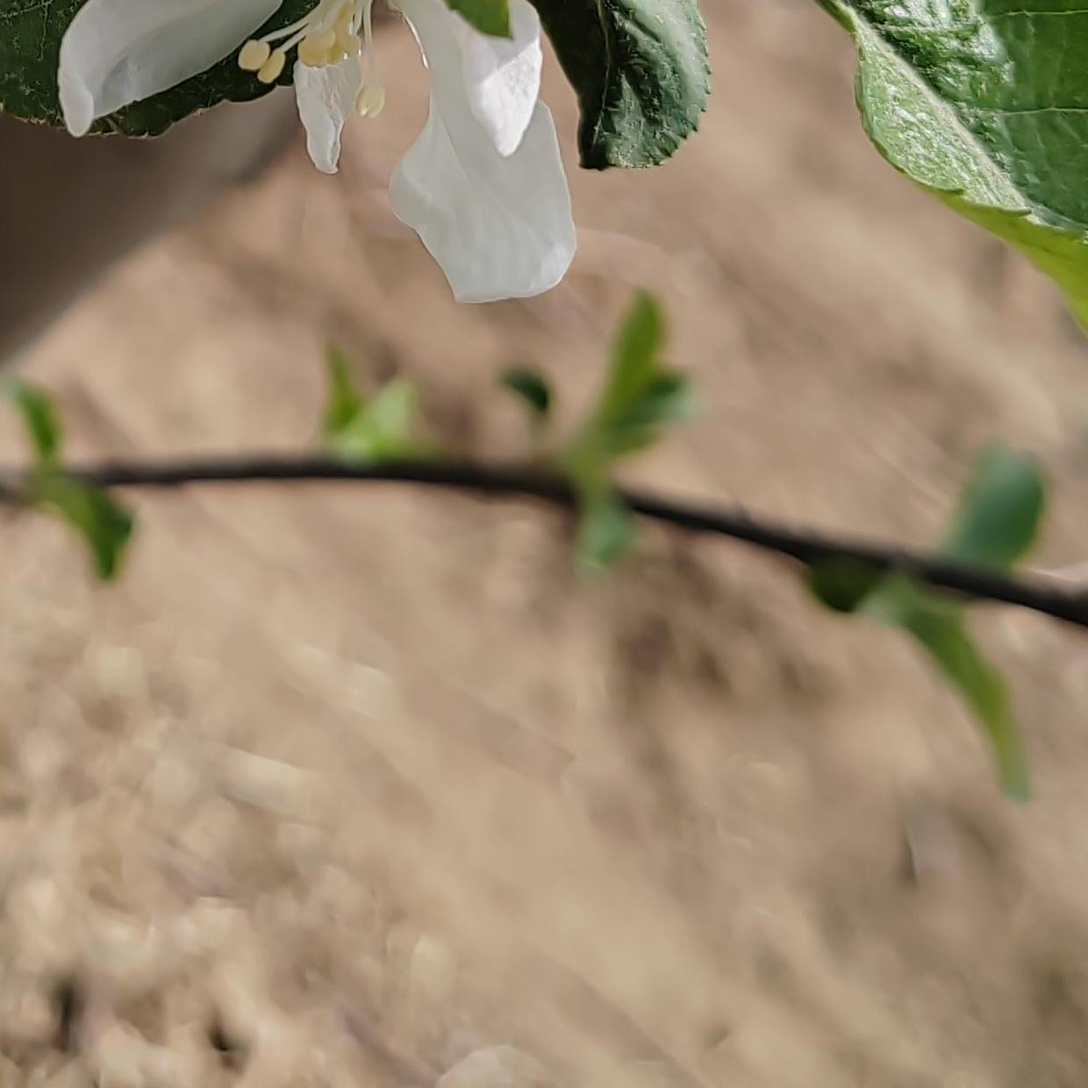apple_flower: (60, 0, 576, 300), (63, 0, 575, 300)
